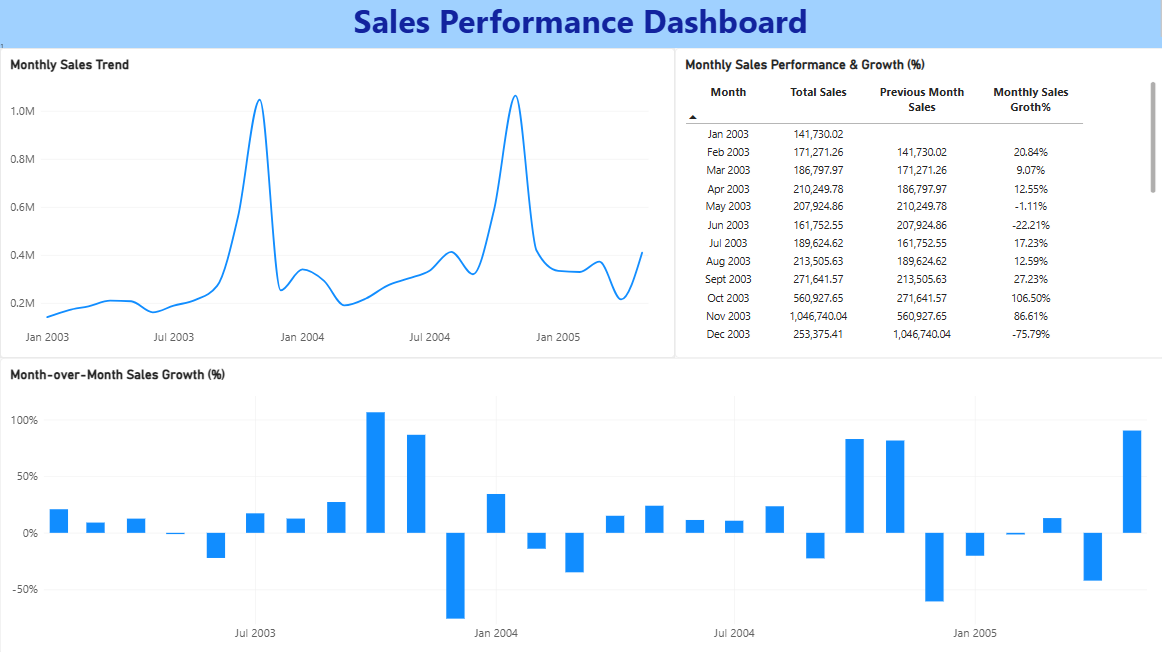

The dashboard page shown, as its layout file describes it:
{"tool":"powerbi","page":{"name":"Sales Performance","canvas":[1920,1080],"ordinal":2},"visuals":[{"type":"lineChart","title":"Monthly Sales Trend","fields":{"Category":["Calendar.Year Month"],"Y":["sales.Total Sales"]},"box":[0,82.3,1111.5,510.5],"z":0},{"type":"tableEx","title":"Monthly Sales Performance & Growth (%)","fields":{"Values":["Calendar.Year Month Label","sales.Total Sales","sales.Previous Month Sales","sales.Monthly Sales Groth%"]},"box":[1111.5,82.3,808.9,510.5],"z":1000},{"type":"clusteredColumnChart","title":"Month-over-Month Sales Growth (%)","fields":{"Category":["Calendar.Year Month"],"Y":["sales.Monthly Sales Groth%"]},"box":[0,592.8,1920.4,487.8],"z":2000},{"type":"textbox","box":[0,0,1920.4,82.3],"z":3000}]}

Visuals, with their boxes in screenshot pixels (x1, y1, x2, y2), scaled from the page's 1920x1080 canvas onto the 1162x652 screenshot:
"Monthly Sales Trend" lineChart: BBox(0, 50, 673, 358)
"Monthly Sales Performance & Growth (%)" tableEx: BBox(673, 50, 1161, 358)
"Month-over-Month Sales Growth (%)" clusteredColumnChart: BBox(0, 358, 1161, 651)
textbox: BBox(0, 0, 1161, 50)
